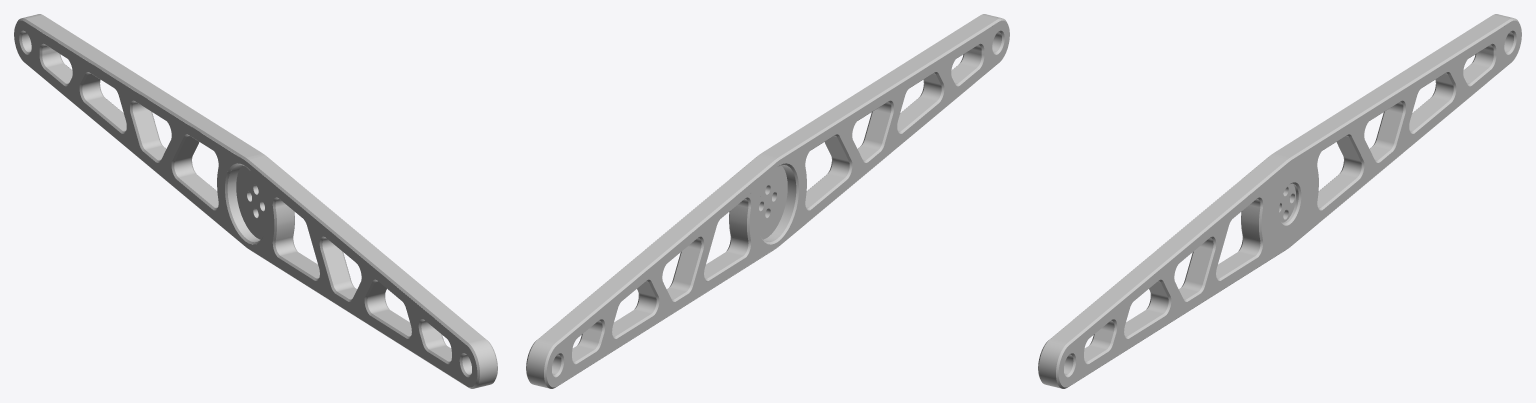
The model's file is roll_balance_link.dae.
3 views of the same model, side by side, from view 1: azimuth 30°, elevation 25°; view 2: azimuth 150°, elevation 25°; view 3: azimuth 330°, elevation 25° (orthographic).
Visible parts, largest first — view 1: roll_balance_link; view 2: roll_balance_link; view 3: roll_balance_link.
Boxes of the visible parts, x1,y1,x2,y2 form: roll_balance_link: (14,14,497,388); roll_balance_link: (526,14,1009,388); roll_balance_link: (1038,14,1521,388).
Bounding box in the file's own units: 0.024 × 0.94 × 0.0998.
Materials: 1 (1 with a texture image).
